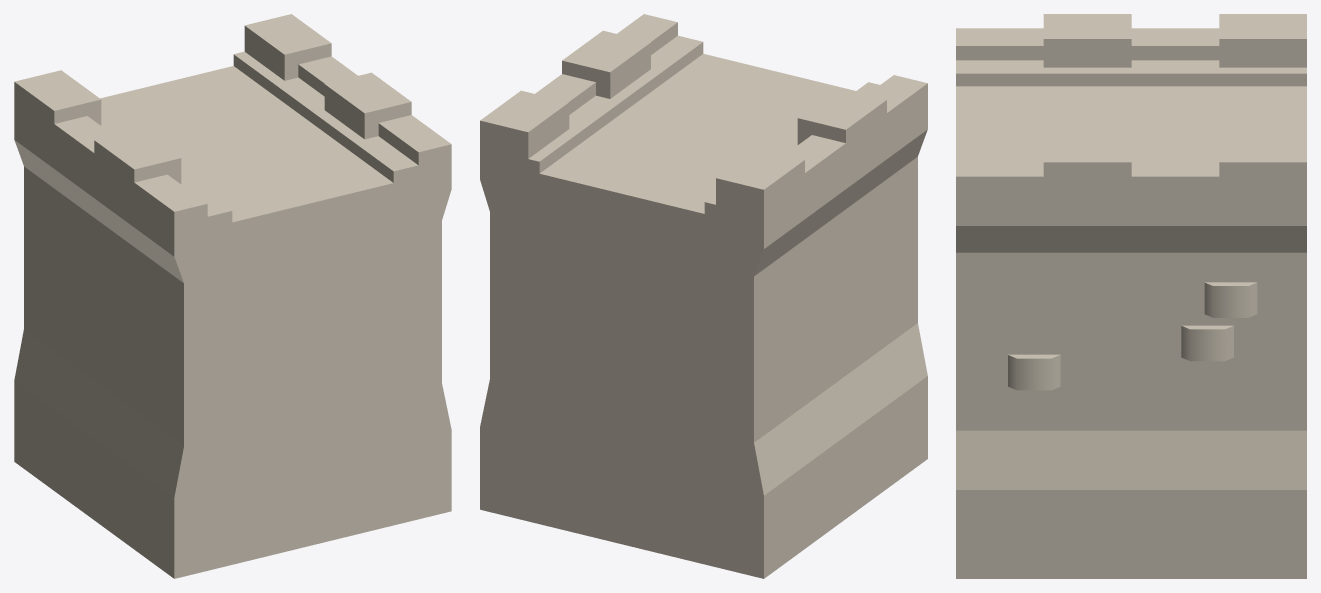
Rendered from rempart-mur.glb.
The picture shows the model from 3 angles, left to right: view 1: azimuth 30°, elevation 25°; view 2: azimuth 150°, elevation 25°; view 3: azimuth 270°, elevation 25°; orthographic projection. The views are drawn at different scales.
Visible parts, largest first — view 1: wall; view 2: wall; view 3: wall.
Boxes of the visible parts, box(x1,y1,x2,y2) form: wall: box(14, 14, 451, 578); wall: box(480, 14, 927, 578); wall: box(956, 14, 1306, 578).
Bounding box in the file's own units: 8 × 10.48 × 8.
